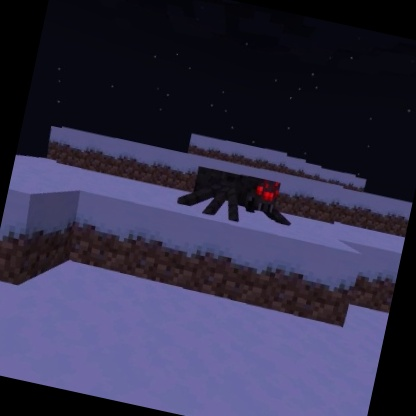spider: (169, 157, 301, 237)
